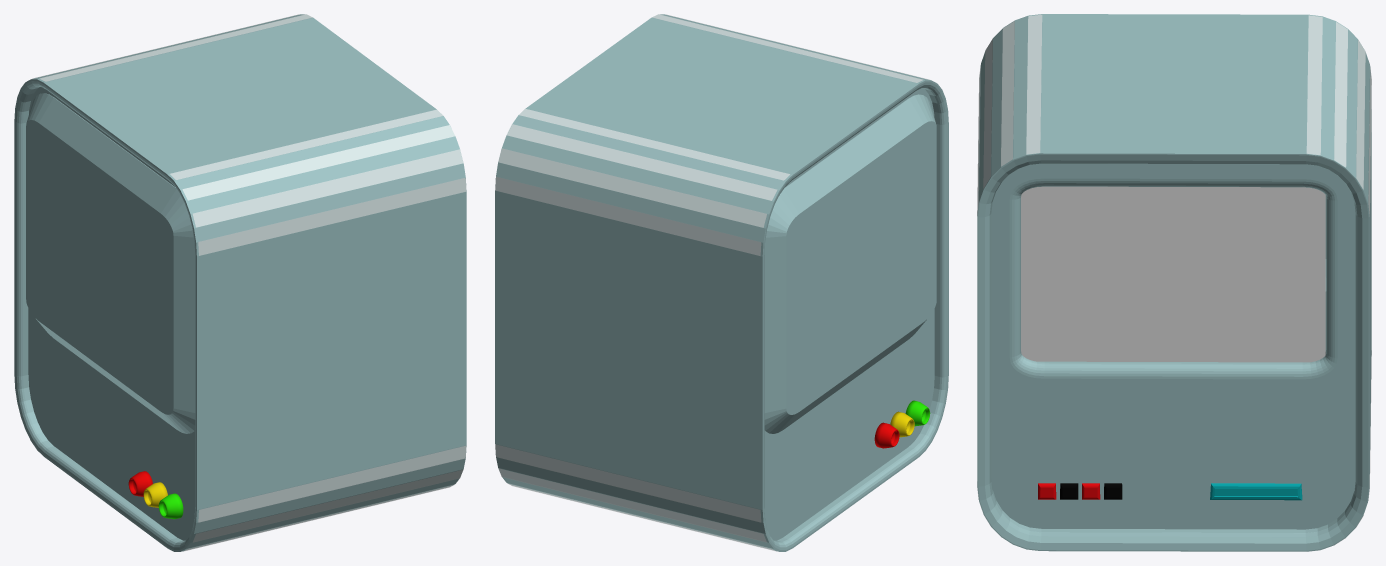
The model's file is joystick2.glb.
The picture shows the model from 3 angles, left to right: view 1: azimuth 30°, elevation 25°; view 2: azimuth 150°, elevation 25°; view 3: azimuth 270°, elevation 25°; orthographic projection. The views are drawn at different scales.
Parts seen in each view (by area): view 1: MONITOR_Cube.004; view 2: MONITOR_Cube.004; view 3: MONITOR_Cube.004.
Boxes of the visible parts, x1,y1,x2,y2 form: MONITOR_Cube.004: [14, 14, 466, 551]; MONITOR_Cube.004: [495, 14, 948, 551]; MONITOR_Cube.004: [977, 14, 1371, 551].
Bounding box in the file's own units: 1.57 × 2.03 × 1.82.
